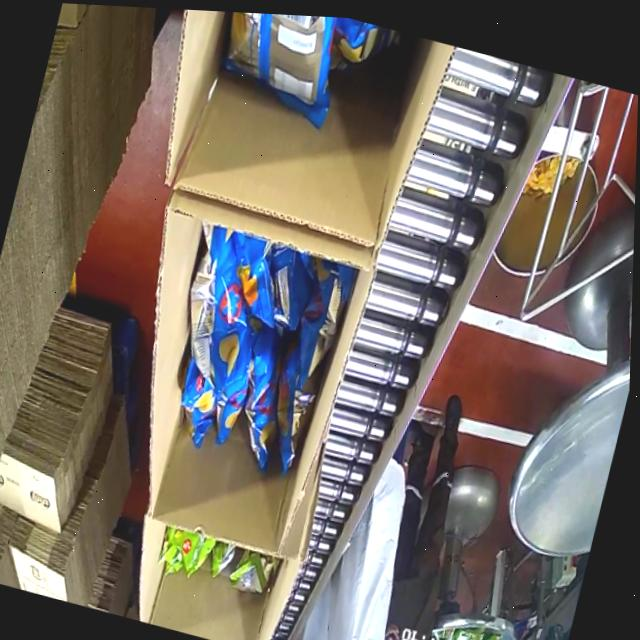PAPRIKA: (139, 218, 342, 484), (175, 9, 421, 163)
